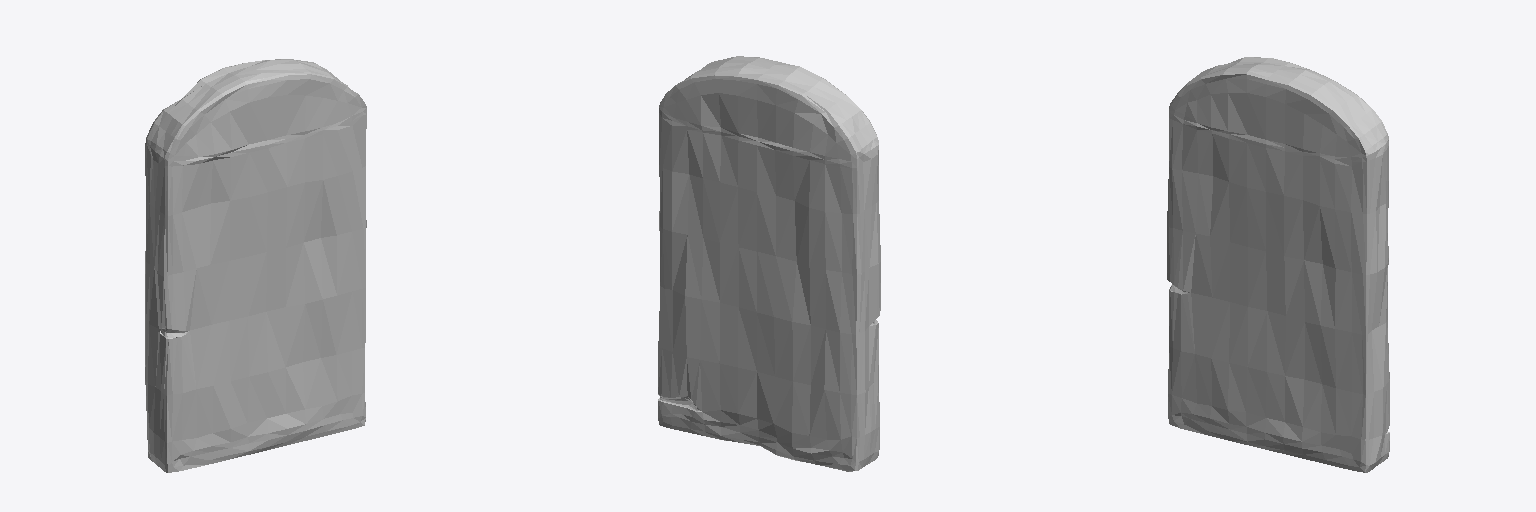
File: tomb.obj
3 views of the same model, side by side, from view 1: azimuth 30°, elevation 25°; view 2: azimuth 150°, elevation 25°; view 3: azimuth 330°, elevation 25° (orthographic).
Bounding box in the file's own units: 4.74 × 8.13 × 1.13.